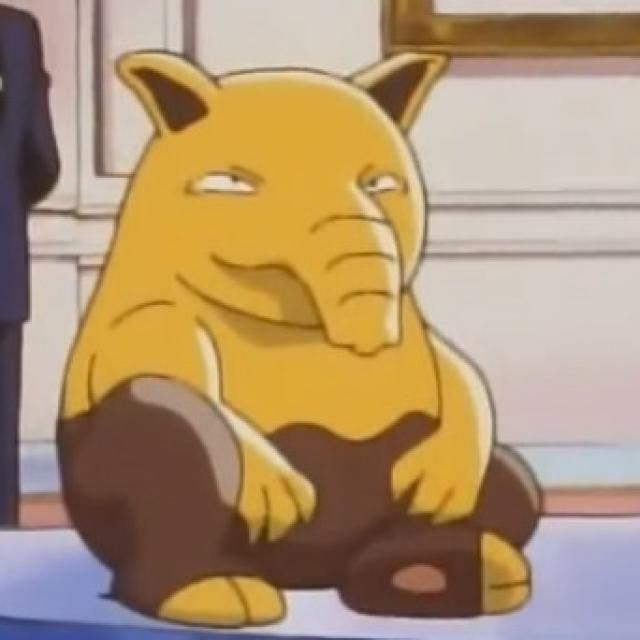Drowzee: (59, 36, 551, 630)
